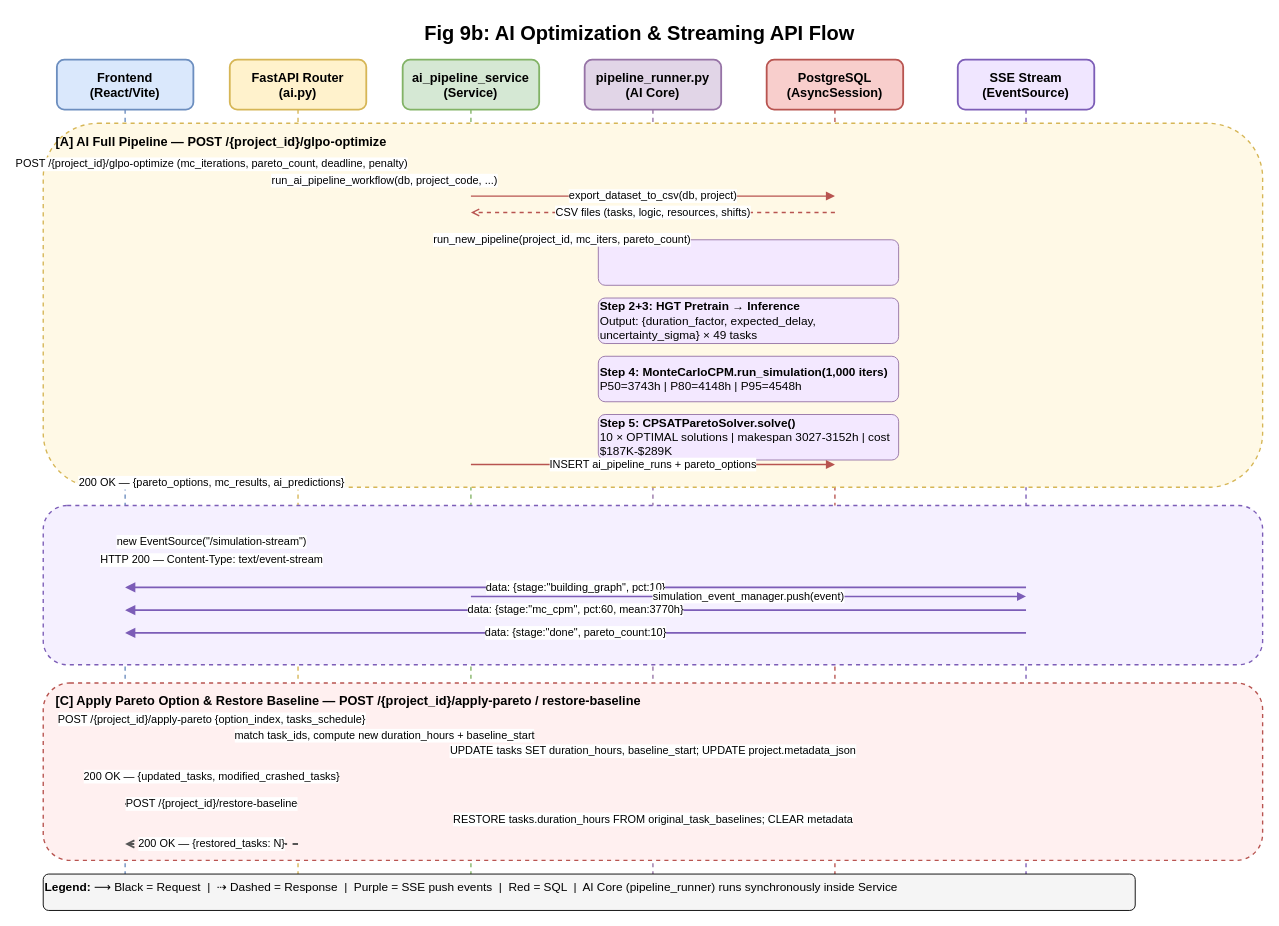
Some shapes in this 1279 by 926 pixel diagram are drawn without their labels. The shapes that lost their labels are listed below. From the top down, each one's centre as x and y in pixels, then its label:
(x=748, y=262): Step 1: HeteroGraphBuilder.build() 49 task + 5 resource + 12 shift nodes
(x=652, y=584): [B] Real-time Progress — GET /{project_id}/simulation-stream (SSE)
